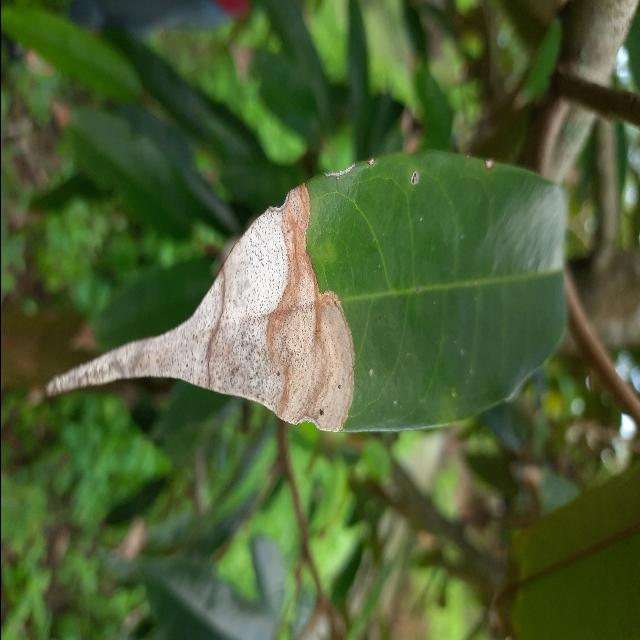Leaf Blight: (27, 141, 579, 441)
